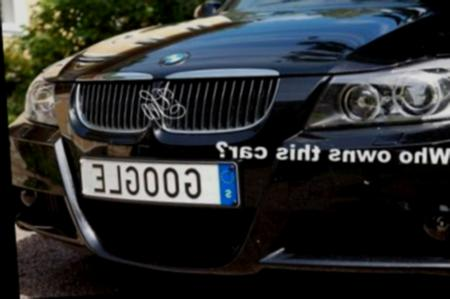License_Plate: (82, 146, 225, 212)
